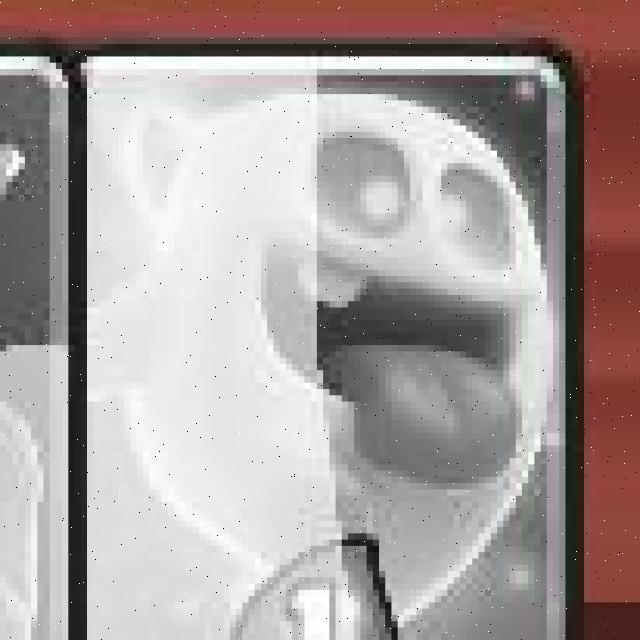Heal_Spirit: (77, 46, 582, 640)
